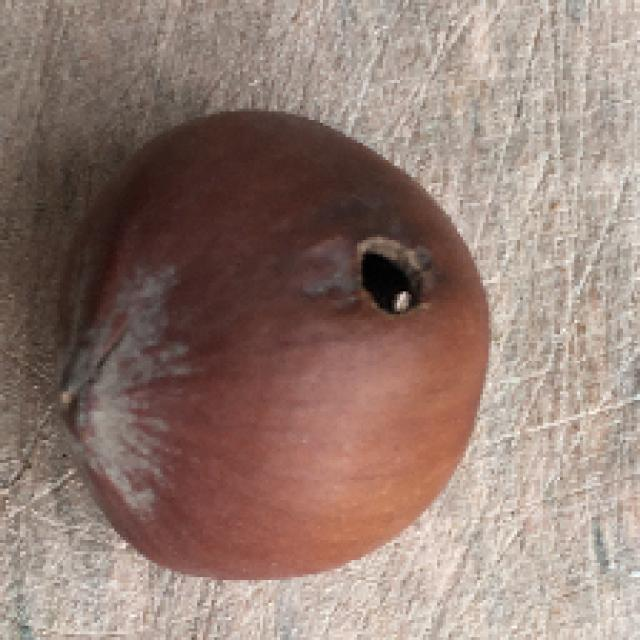damagedHazelnut: (46, 108, 498, 580)
